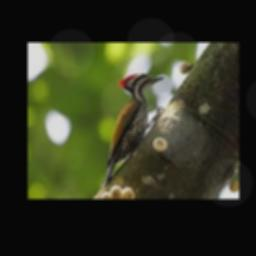Woodpecker: (101, 73, 164, 188)
